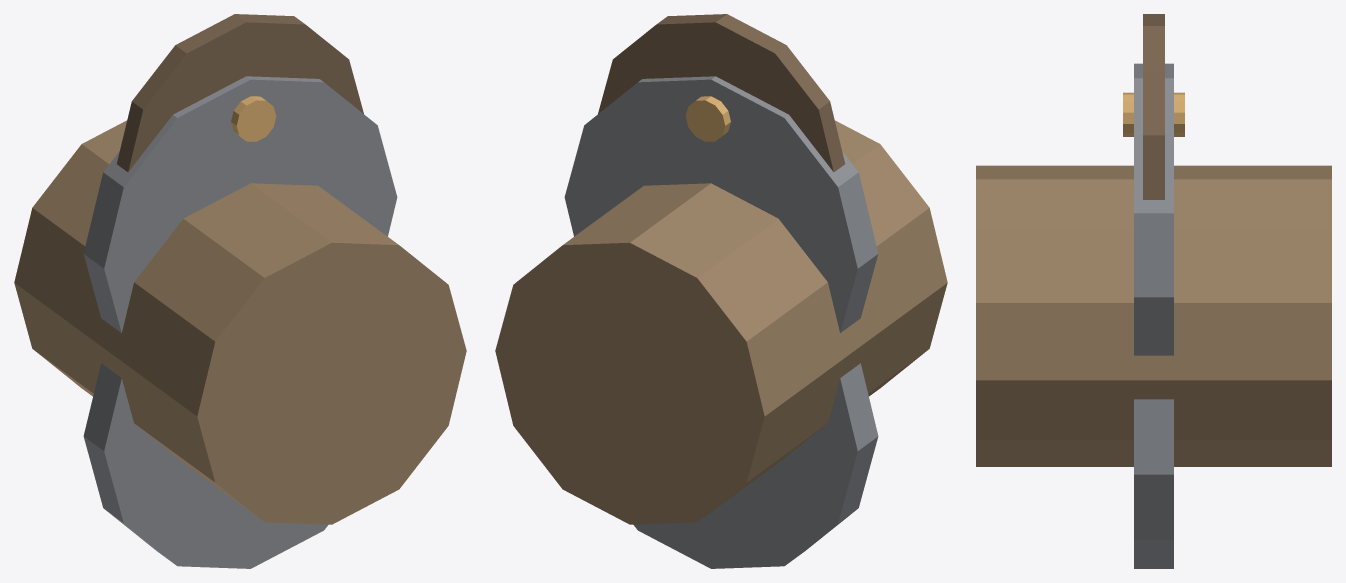
File: barrel.glb
3 renders of one model, left to right at view 1: azimuth 30°, elevation 25°; view 2: azimuth 150°, elevation 25°; view 3: azimuth 270°, elevation 25°, orthographic. The views are drawn at different scales.
Visible parts, largest first — view 1: geometry_0; view 2: geometry_0; view 3: geometry_0.
Boxes of the visible parts, <box> form: geometry_0: <box>14,14,466,568</box>; geometry_0: <box>495,14,947,568</box>; geometry_0: <box>976,14,1331,568</box>.
Size of the model in its own units: 0.74 by 1.31 by 0.8.
